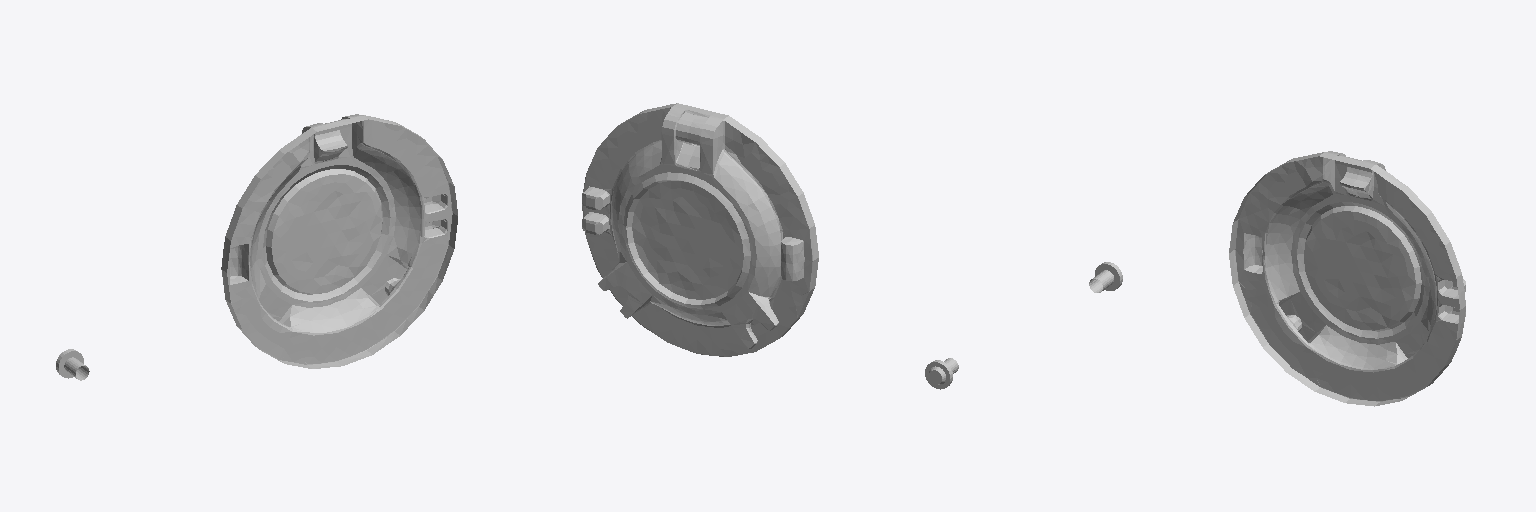
Rendered from porthole.obj.
3 renders of one model, left to right at view 1: azimuth 30°, elevation 25°; view 2: azimuth 150°, elevation 25°; view 3: azimuth 330°, elevation 25°, orthographic.
Visible parts, largest first — view 1: Cylinder001; view 2: Cylinder001; view 3: Cylinder001.
Part boxes in pixels (x1,y1,x2,y2): Cylinder001: (56, 114, 457, 380); Cylinder001: (582, 103, 958, 389); Cylinder001: (1089, 151, 1465, 406).
Bounding box in the file's own units: 8.84 × 5.33 × 0.892.